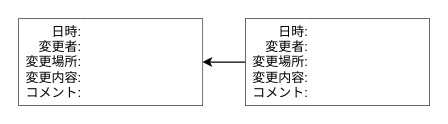
Some shapes in this 448 by 124 pixel diagram are drawn without their labels. Here are the shapes that lost their labels. From the top down, the box of each, then its label:
(83, 18, 202, 105): 2025-09-20 sugawa197203 myname.txt myname.txtを作成 "Add myname.txt"
(310, 18, 429, 105): 2025-09-20 sugawa197203 myname.txt myname.txtの2行目 "学籍番号を追加"
